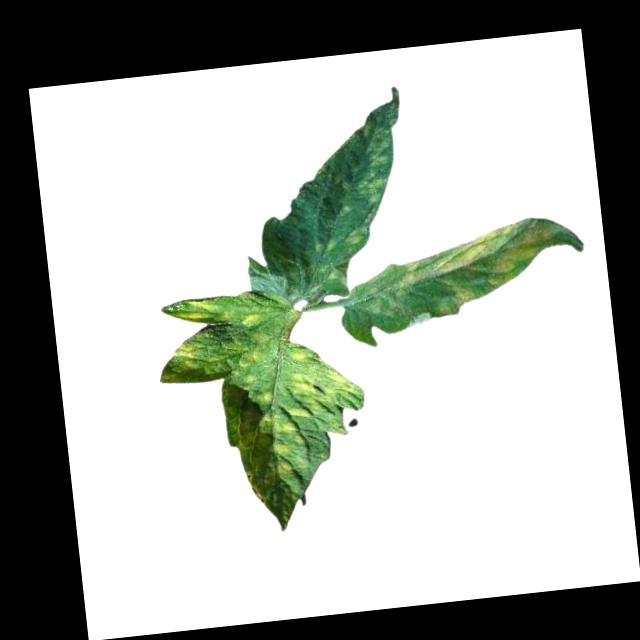Leaf_Mold: (154, 318, 377, 545), (391, 214, 563, 320), (345, 118, 399, 209), (174, 294, 232, 326)
